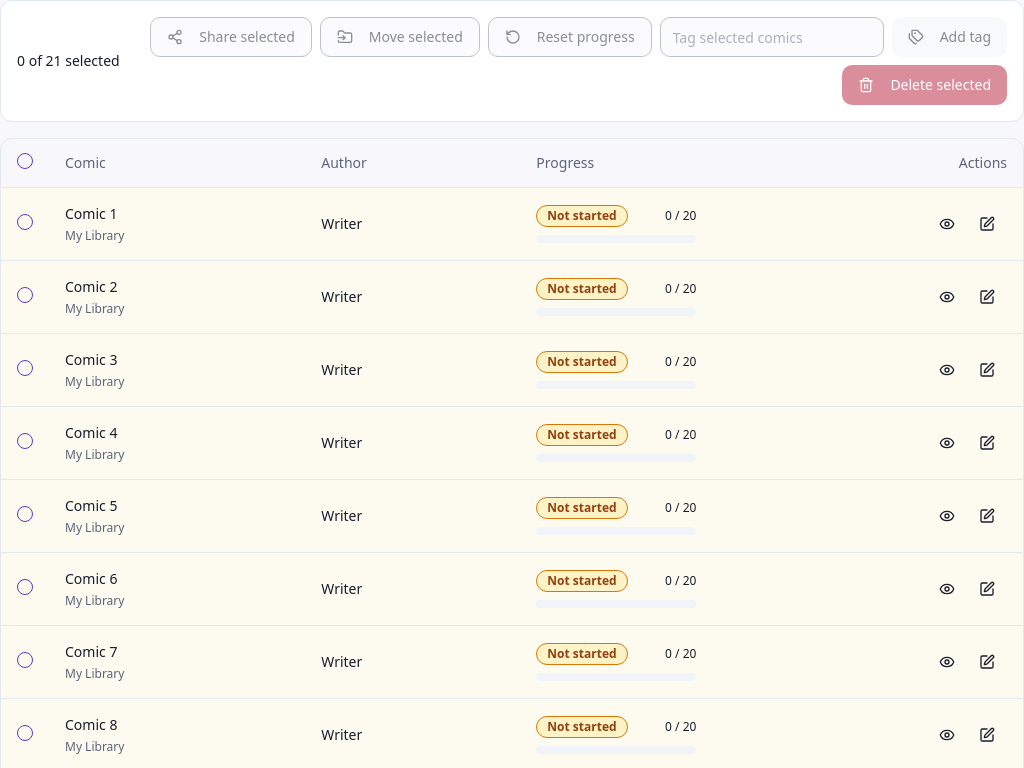
Test: ComicTableView sharing › says so rather than truncating when more than twenty are selected
Click the checkbox named "Select all comics" at (25, 161), box [17,153,33,169]
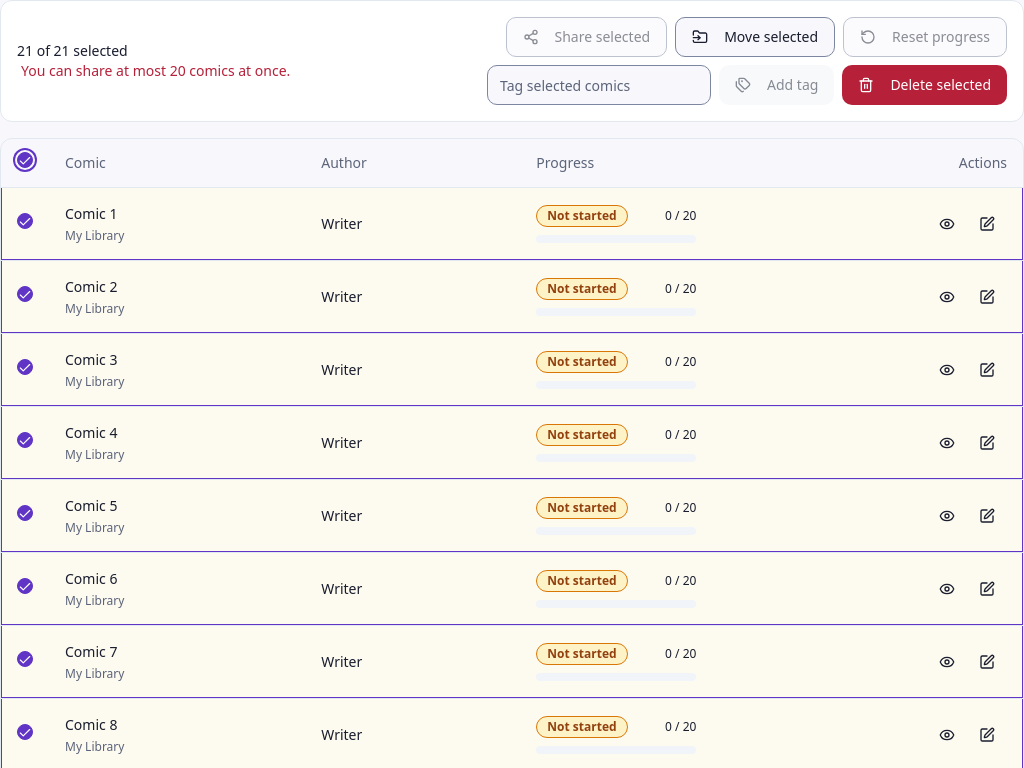
Expected: the button "Share selected" is disabled, [506,17,667,57]
Now the text "You can share at most 20 comics at once." is shown, box [21,61,290,81]
